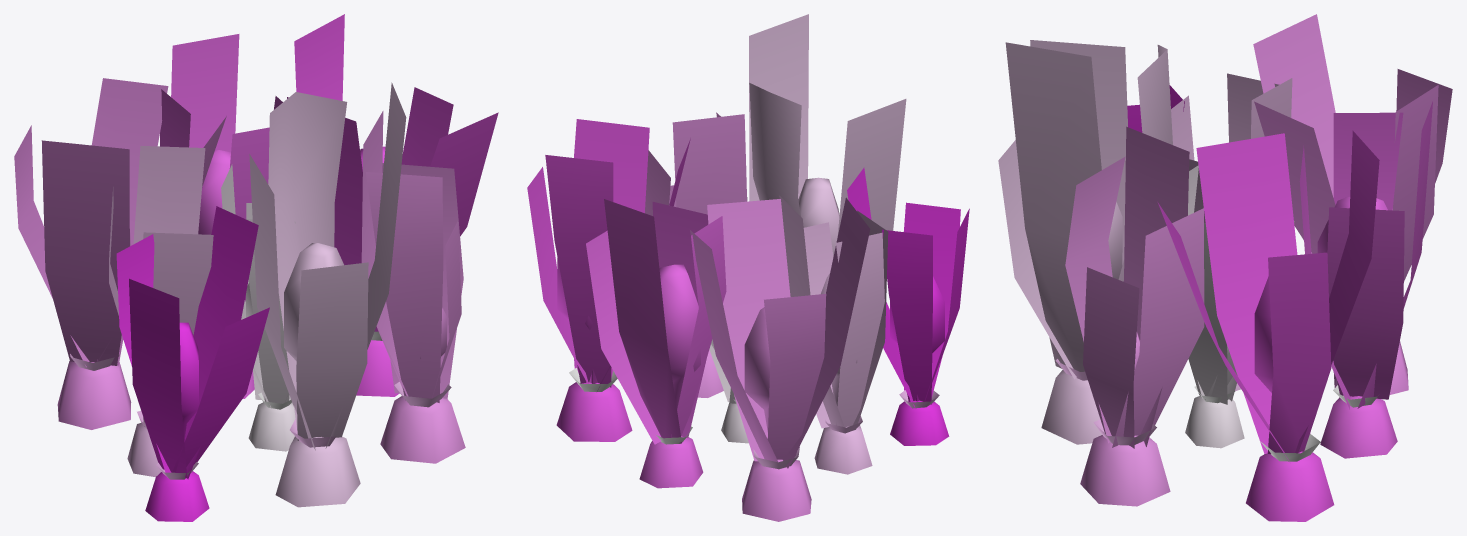
Rendered from G_HyacinthSeed_002_S1.fbx.
The picture shows the model from 3 angles, left to right: view 1: azimuth 30°, elevation 25°; view 2: azimuth 150°, elevation 25°; view 3: azimuth 270°, elevation 25°; orthographic projection. The views are drawn at different scales.
Parts seen in each view (by area): view 1: G_HyacinthSeed_002_S1_P01_LOD0; view 2: G_HyacinthSeed_002_S1_P01_LOD0; view 3: G_HyacinthSeed_002_S1_P01_LOD0.
Part boxes in pixels (left/top/right/bottom): G_HyacinthSeed_002_S1_P01_LOD0: left=14, top=14, right=498, bottom=521; G_HyacinthSeed_002_S1_P01_LOD0: left=527, top=14, right=969, bottom=521; G_HyacinthSeed_002_S1_P01_LOD0: left=998, top=14, right=1452, bottom=521.
Size of the model in its own units: 64.55 by 60.3 by 60.81.
